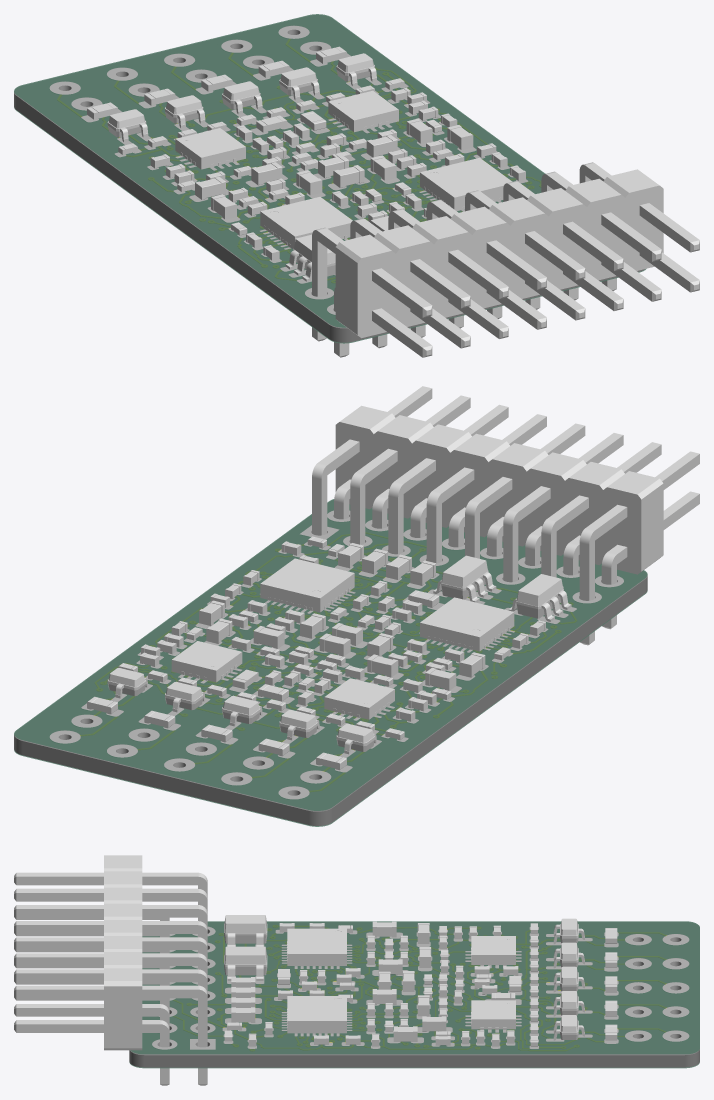
The model's file is routed-board.glb.
3 renders of one model, top to bottom at view 1: azimuth 30°, elevation 25°; view 2: azimuth 150°, elevation 25°; view 3: azimuth 270°, elevation 25°, orthographic. The views are drawn at different scales.
Visible parts, largest first — view 1: J6, =>[0:1:1:15], =>[0:1:1:17], =>[0:1:1:12], U4, U3, =>[0:1:1:11], U2, U1, U5, D1, D5 (+8 smaller); view 2: =>[0:1:1:15], J6, =>[0:1:1:17], =>[0:1:1:12], U3, U4, =>[0:1:1:11], U2, U1, U5, U6, =>[0:1:1:16] (+5 smaller); view 3: =>[0:1:1:15], =>[0:1:1:17], J6, =>[0:1:1:12], =>[0:1:1:11], U3, U4, U6, U2, U1, U5, =>[0:1:1:16] (+10 smaller).
Part boxes in pixels (x1,y1,x2,y2): J6: [312, 162, 699, 357]; =>[0:1:1:15]: [14, 14, 545, 327]; =>[0:1:1:17]: [14, 15, 644, 342]; =>[0:1:1:12]: [49, 25, 528, 314]; U4: [420, 157, 512, 211]; U3: [260, 197, 352, 249]; =>[0:1:1:11]: [57, 39, 540, 282]; U2: [328, 90, 398, 132]; U1: [175, 128, 245, 169]; U5: [285, 234, 335, 281]; D1: [107, 109, 148, 142]; D5: [336, 53, 376, 86]; =>[0:1:1:15]: [14, 499, 647, 810]; J6: [312, 386, 699, 645]; =>[0:1:1:17]: [14, 500, 647, 825]; =>[0:1:1:12]: [49, 510, 623, 799]; U3: [420, 597, 514, 651]; U4: [260, 558, 354, 612]; =>[0:1:1:11]: [80, 533, 576, 791]; U2: [171, 641, 242, 682]; U1: [324, 678, 394, 719]; U5: [508, 574, 571, 621]; U6: [433, 555, 496, 602]; =>[0:1:1:16]: [14, 590, 647, 826]; =>[0:1:1:15]: [130, 921, 699, 1054]; =>[0:1:1:17]: [129, 922, 699, 1067]; J6: [14, 855, 207, 1085]; =>[0:1:1:12]: [152, 926, 689, 1049]; =>[0:1:1:11]: [173, 926, 666, 1050]; U3: [287, 928, 346, 966]; U4: [287, 996, 346, 1033]; U6: [224, 946, 267, 980]; U2: [471, 1000, 515, 1029]; U1: [471, 936, 515, 965]; U5: [224, 915, 267, 946]; =>[0:1:1:16]: [129, 1062, 699, 1068].
Bounding box in the file's own units: 0.021 × 0.00808 × 0.0457.
